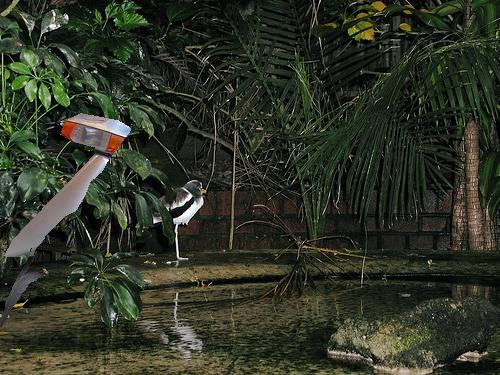tampered: (1, 114, 131, 327)
